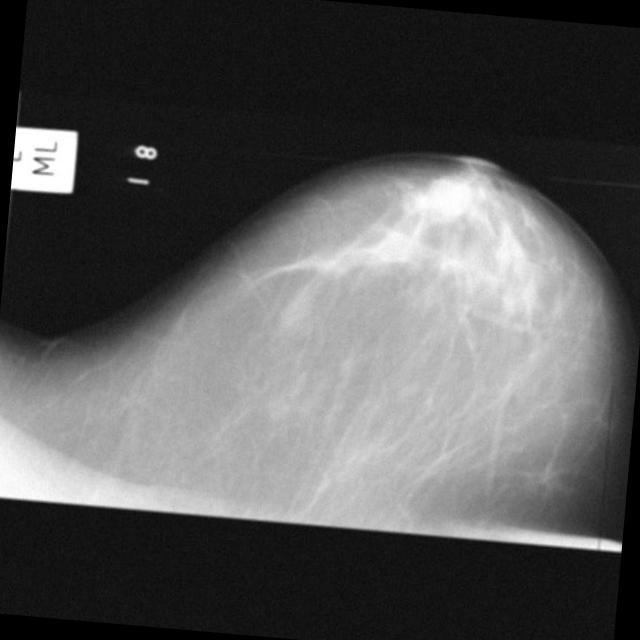SPIC: (529, 456, 565, 491)
